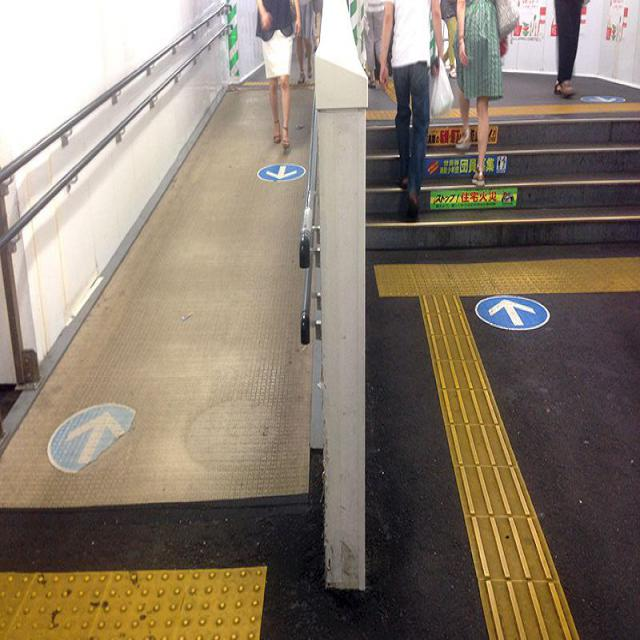tactile-guide-path: (420, 294, 582, 639), (0, 564, 268, 639), (375, 256, 639, 298)
